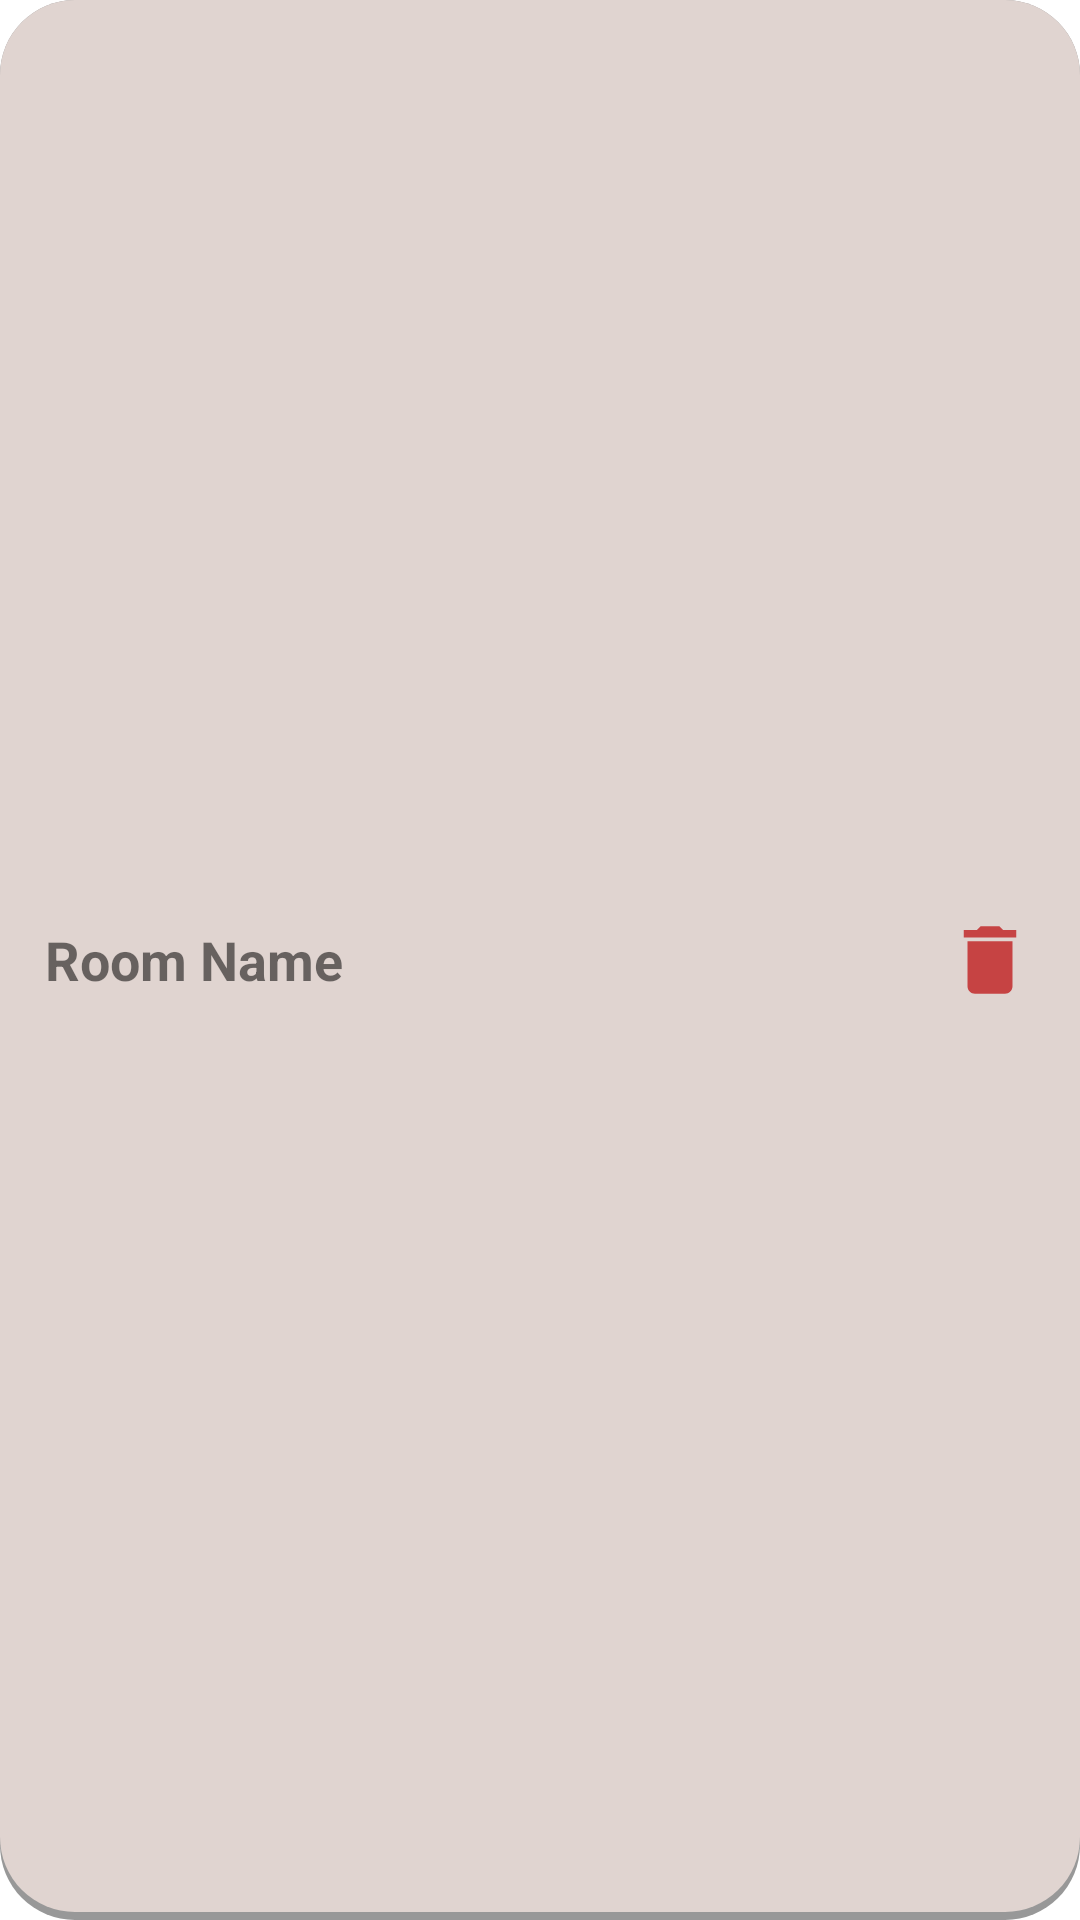

Named icons in this screenshot (1080w x 1920h) and their centers, (x,y):
delete: (990,960)
